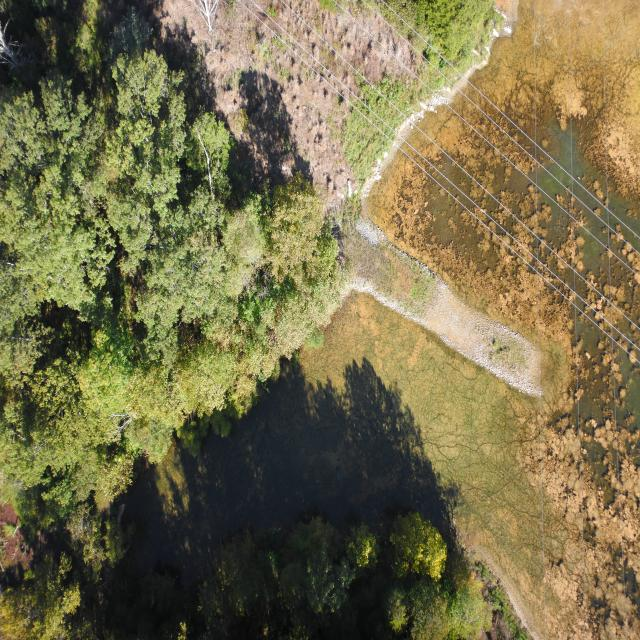Area of Interest: (5, 95, 342, 524), (224, 536, 492, 635)
